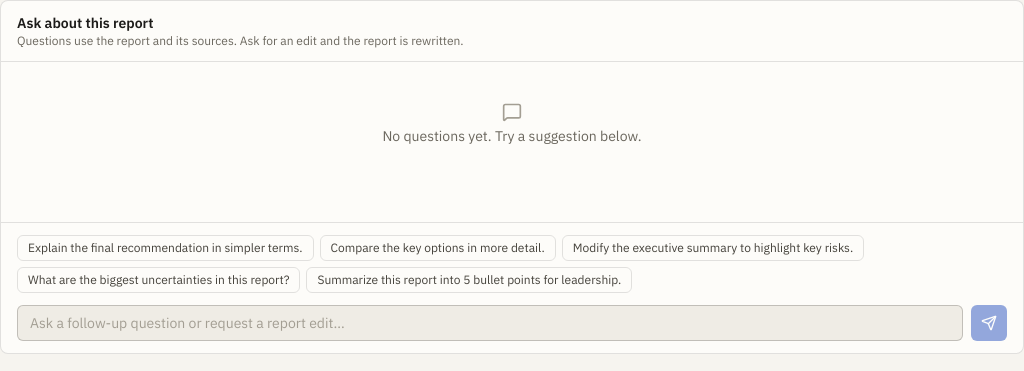
Test: ReportChat › B26: keeps messages sent before the history finishes loading
Type "Early question" into the field with placeholder "Ask a follow-up question or request a report edit…".
click(490, 323); type("Early question")  # box [17, 305, 963, 341]
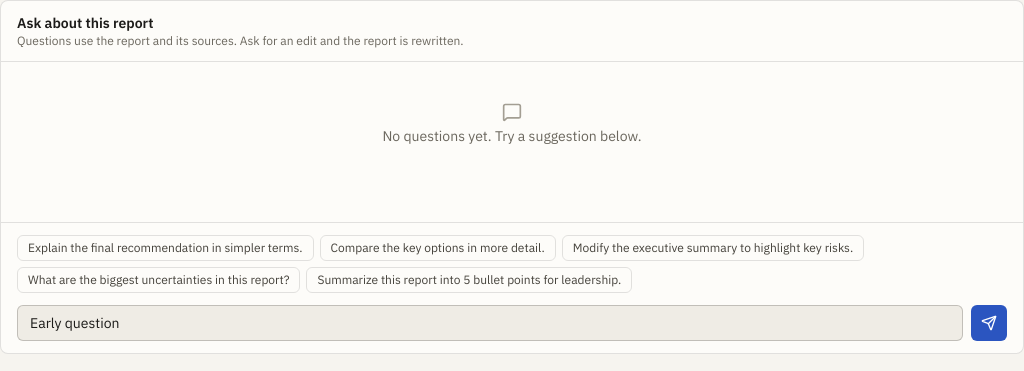
Submit the form with placeholder "follow-up", box [17, 305, 1007, 341]
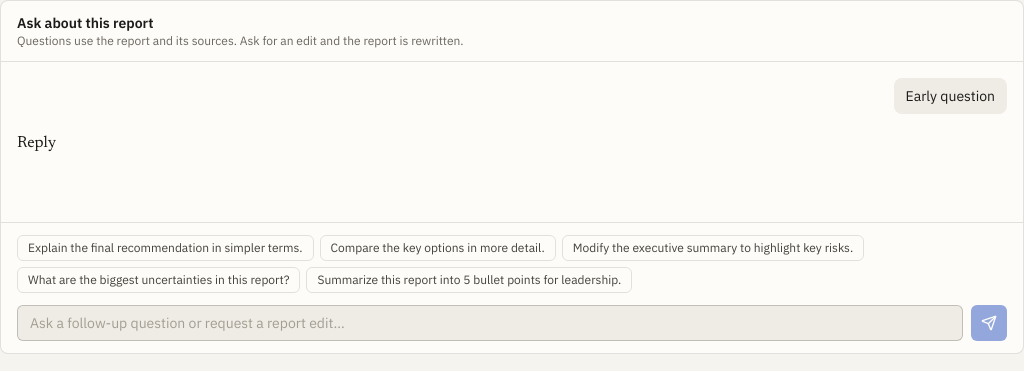
Expected: the text "Reply" is shown, [17, 135, 56, 151]
Expected: the text "Early question" is shown, [894, 78, 1007, 114]
